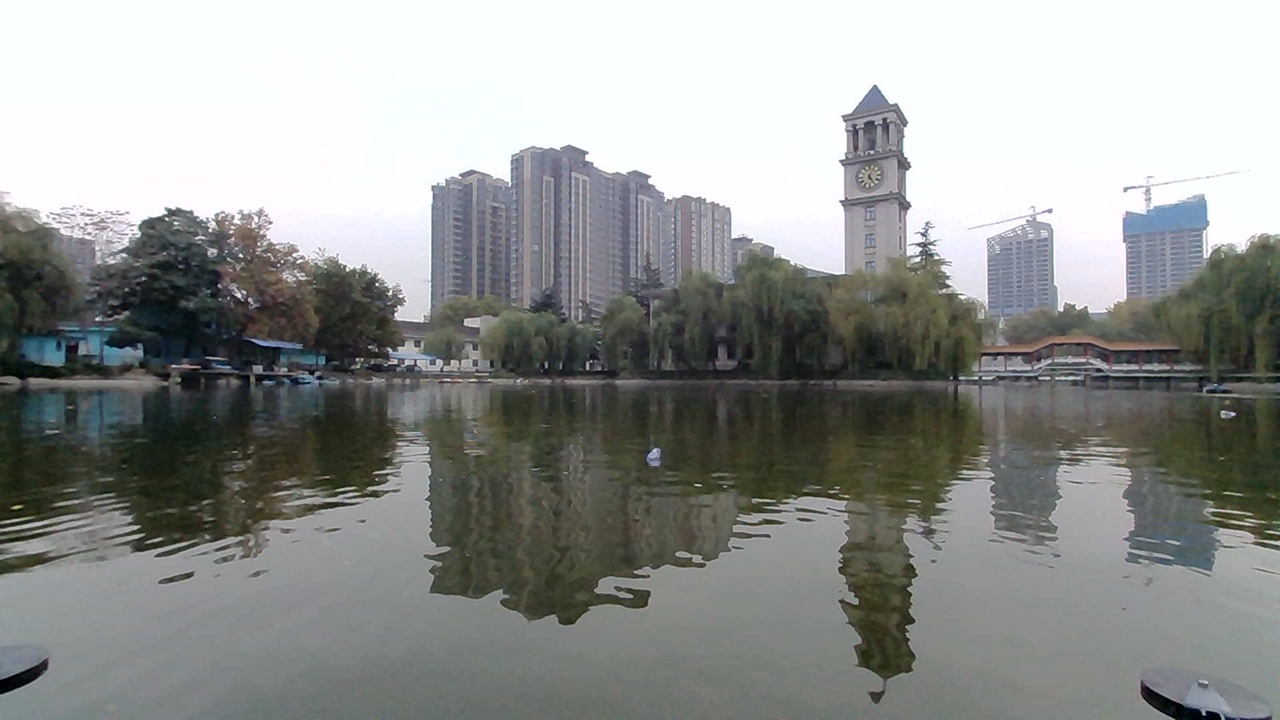bottle: (631, 440, 680, 472), (1208, 397, 1238, 425)
